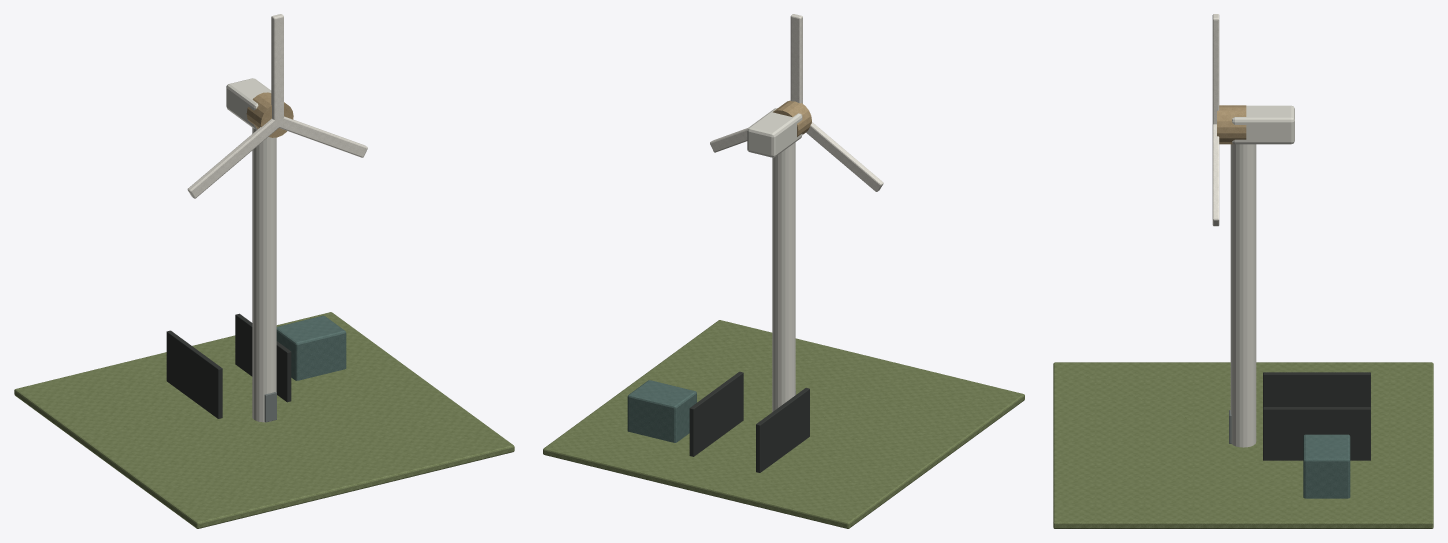
The model's file is UTIL_WIND_2x2_001.glb.
3 views of the same model, side by side, from view 1: azimuth 30°, elevation 25°; view 2: azimuth 150°, elevation 25°; view 3: azimuth 270°, elevation 25° (orthographic). The views are drawn at different scales.
Visible parts, largest first — view 1: UTIL_WIND_2x2_001_Visual; view 2: UTIL_WIND_2x2_001_Visual; view 3: UTIL_WIND_2x2_001_Visual.
Part boxes in pixels (x1,y1,x2,y2): UTIL_WIND_2x2_001_Visual: [14, 14, 514, 528]; UTIL_WIND_2x2_001_Visual: [543, 14, 1024, 528]; UTIL_WIND_2x2_001_Visual: [1053, 14, 1433, 528].
Size of what is drawn, in the model's own units: 3.88 by 4.88 by 3.88.
Materials: 7 (4 with a texture image).
